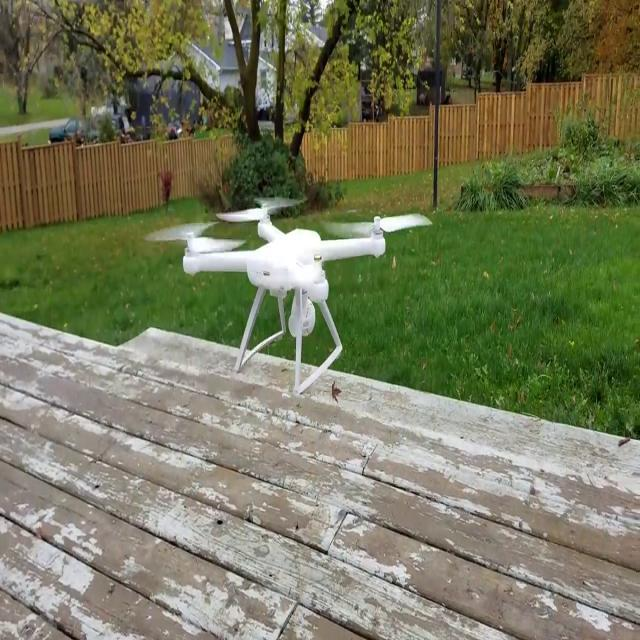drone: (157, 182, 443, 327)
